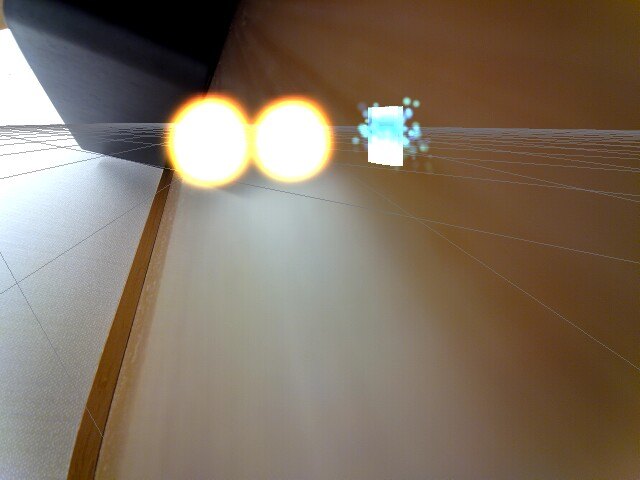firebig: (152, 86, 253, 190)
